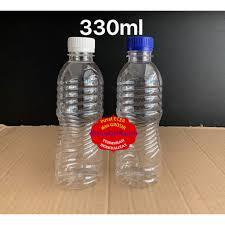BIODEGRADABLE: (116, 33, 171, 189), (55, 34, 109, 192)
